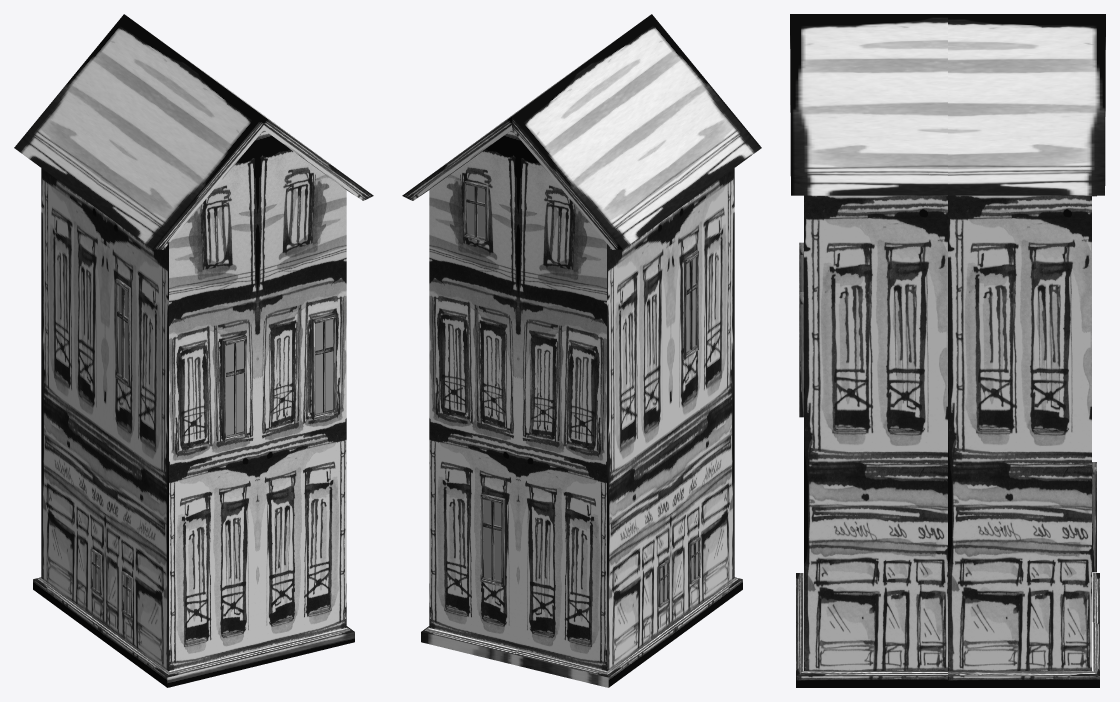
The model's file is House03.fbx.
The picture shows the model from 3 angles, left to right: view 1: azimuth 30°, elevation 25°; view 2: azimuth 150°, elevation 25°; view 3: azimuth 270°, elevation 25°; orthographic projection. The views are drawn at different scales.
Visible parts, largest first — view 1: House03; view 2: House03; view 3: House03.
Part boxes in pixels (x1=…): House03: x1=14, y1=14, x2=373, y2=687; House03: x1=402, y1=14, x2=761, y2=687; House03: x1=790, y1=14, x2=1105, y2=687.
Bounding box in the file's own units: 9.42 × 22.44 × 10.33.
